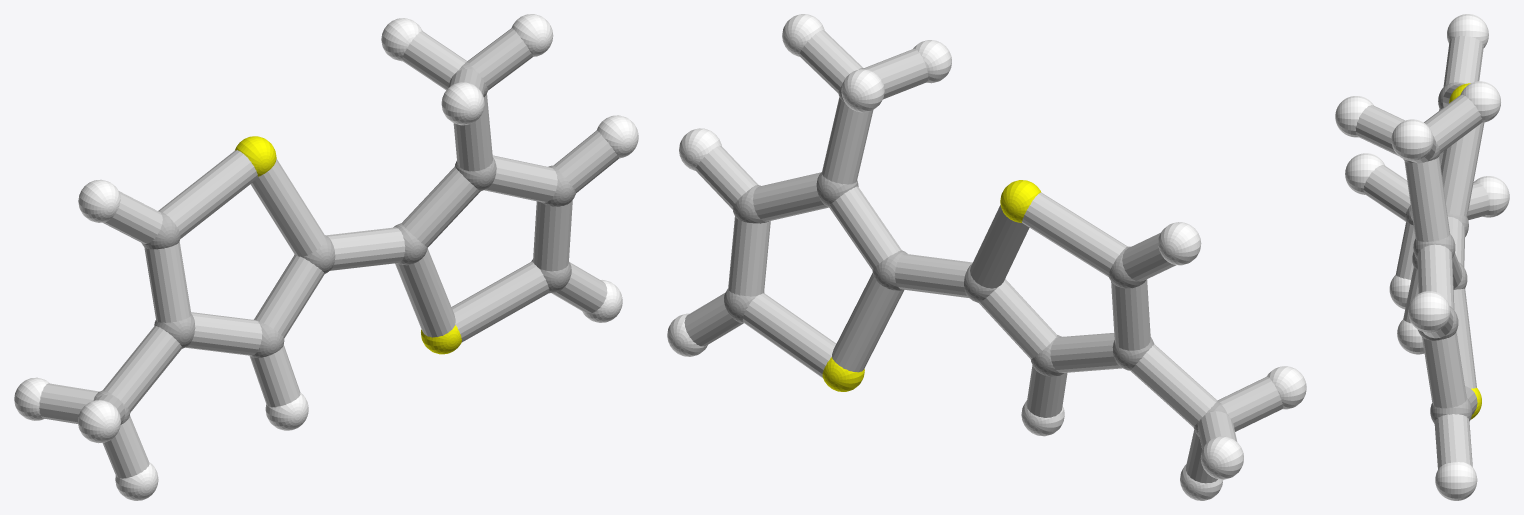
Rendered from color.glb.
The picture shows the model from 3 angles, left to right: view 1: azimuth 30°, elevation 25°; view 2: azimuth 150°, elevation 25°; view 3: azimuth 270°, elevation 25°; orthographic projection. The views are drawn at different scales.
Visible parts, largest first — view 1: grp7965, grp3621, grp1, grp7241; view 2: grp7965, grp3621, grp1, grp7241; view 3: grp7965, grp3621, grp1, grp7241.
Part boxes in pixels (x1,y1,x2,y2): grp7965: (39,28,619,478); grp3621: (14,14,638,500); grp1: (93,62,575,424); grp7241: (235,136,461,354); grp7965: (684,30,1283,483); grp3621: (667,14,1306,500); grp1: (724,68,1228,436); grp7241: (822,180,1041,391); grp7965: (1355,35,1489,469); grp3621: (1335,14,1509,500); grp1: (1403,82,1472,423); grp7241: (1449,83,1481,419).
Size of the model in its own units: 9.41 by 5.9 by 2.49.
